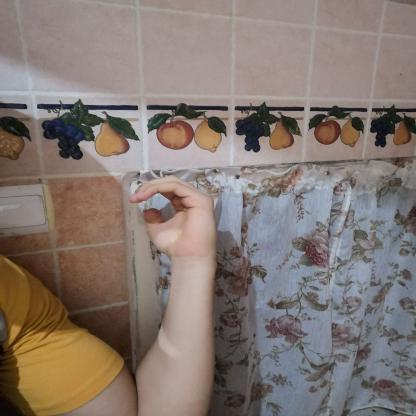JEEM: (117, 166, 228, 265)
